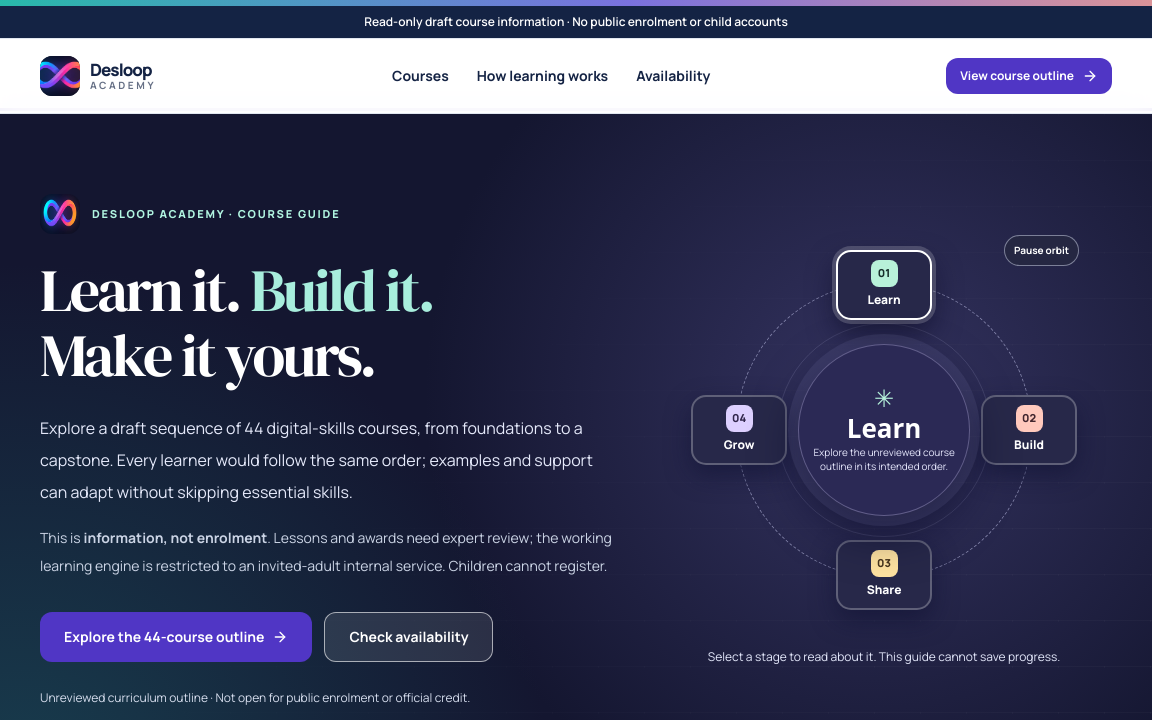
Test: actual release entry and read-only draft catalogue › guides a visitor to the 44-course outline without fake account actions
Expected: the heading "Learn it. Build it. Make it yours." is shown, [40,249,433,396]
Expected: the links read "Courses", "How learning works", "Availability", in this order, [392,66,449,86]; [477,66,608,86]; [636,66,710,86]
Click the link "Explore the 44-course outline": click(176, 637) [40,612,312,662]
(page scrolled)
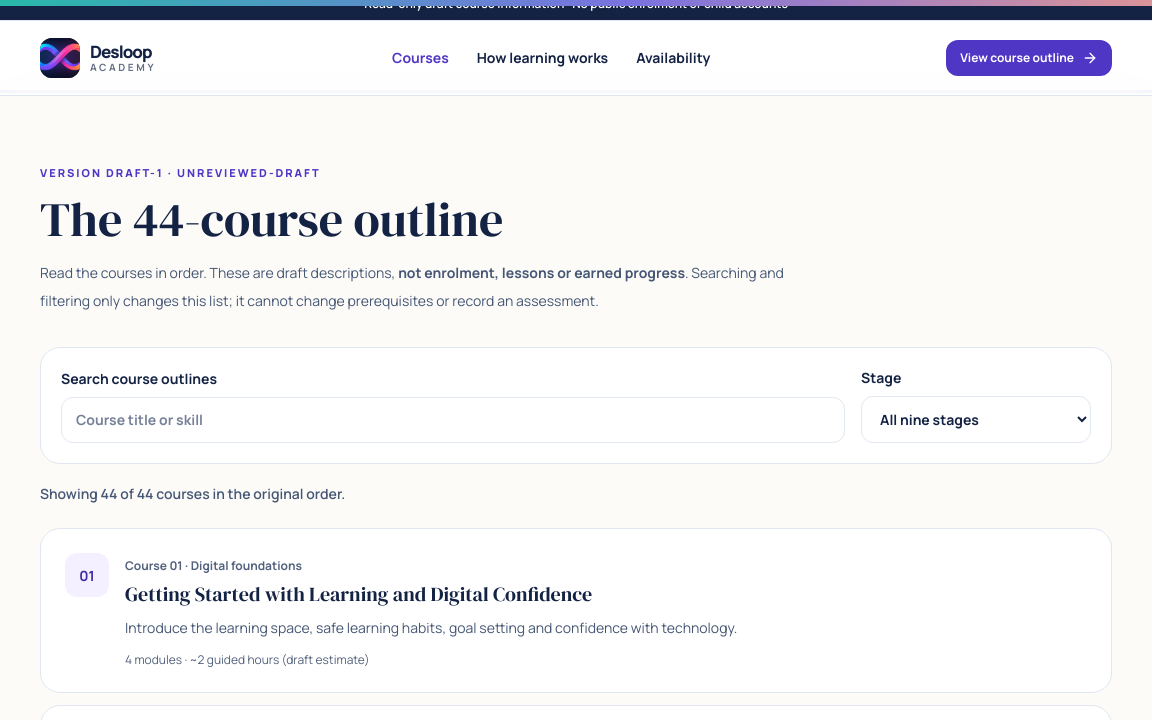
Expected: the heading "The 44-course outline" is shown, [40,186,503,252]
Now the message shows "Showing 44 of 44 courses", box [40,484,345,504]
